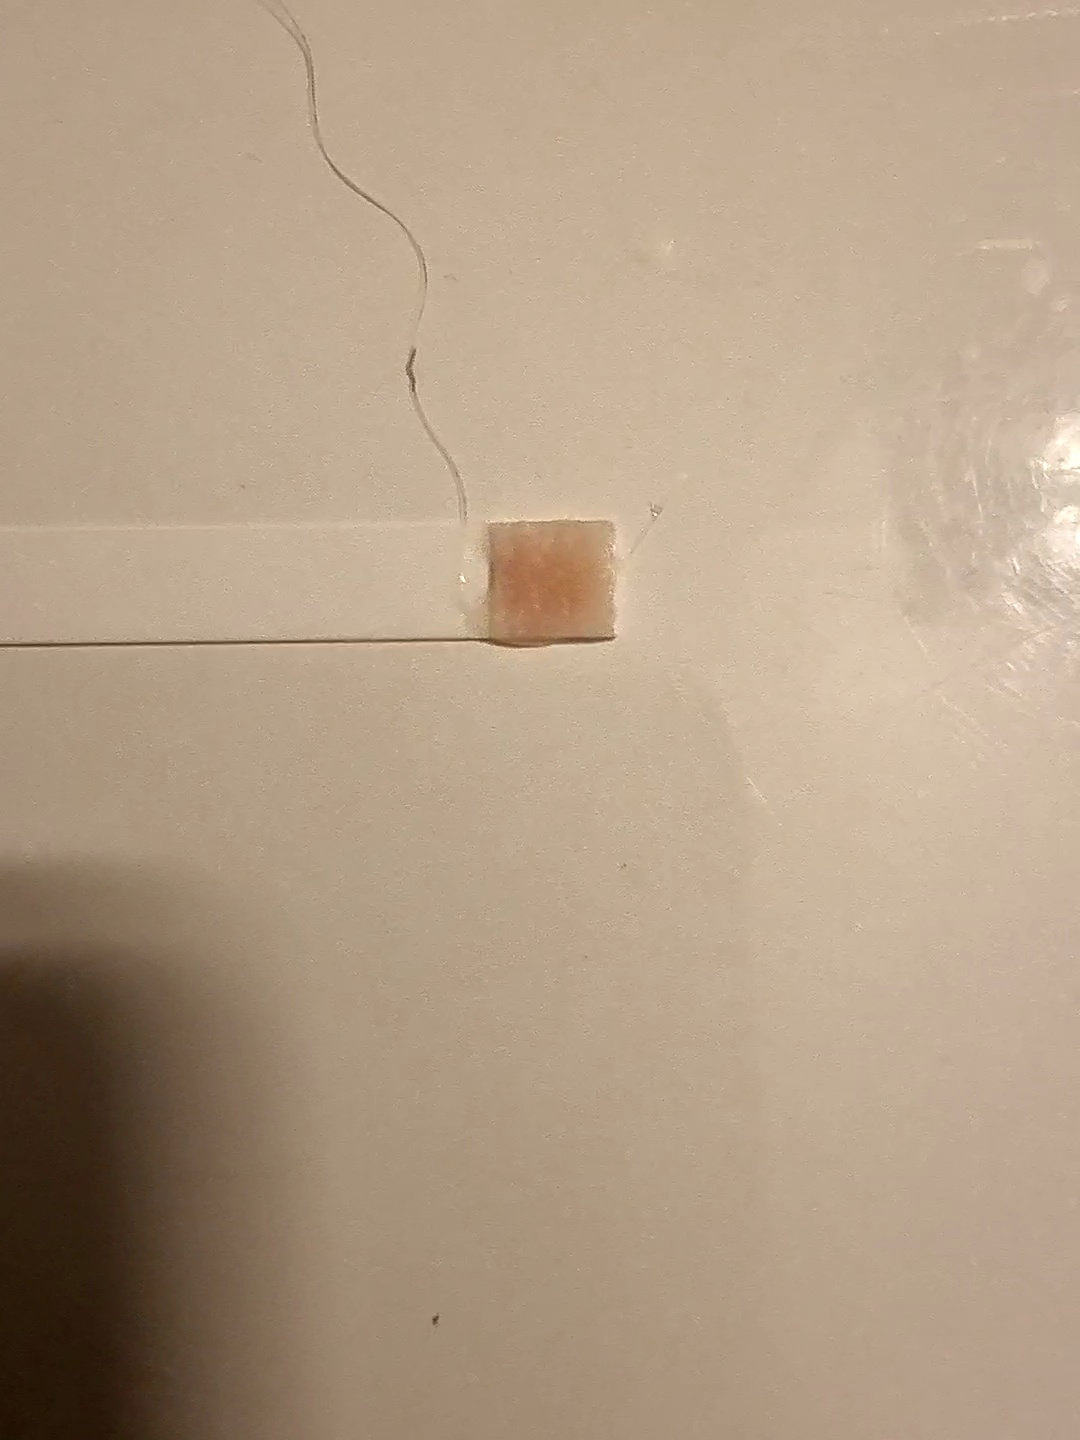keto-tip: (480, 516, 628, 650)
